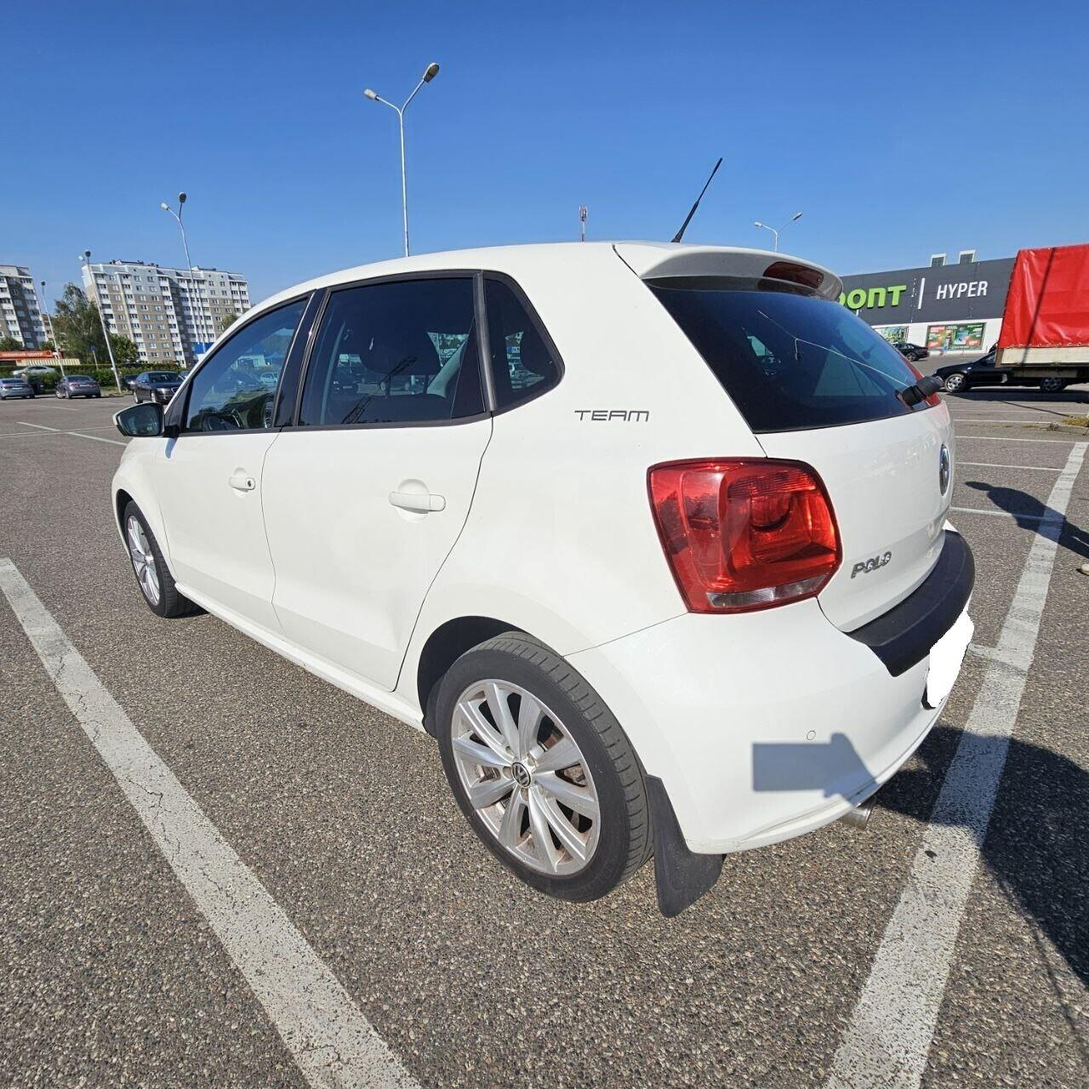Polo_2009-2015: (32, 211, 984, 933)
